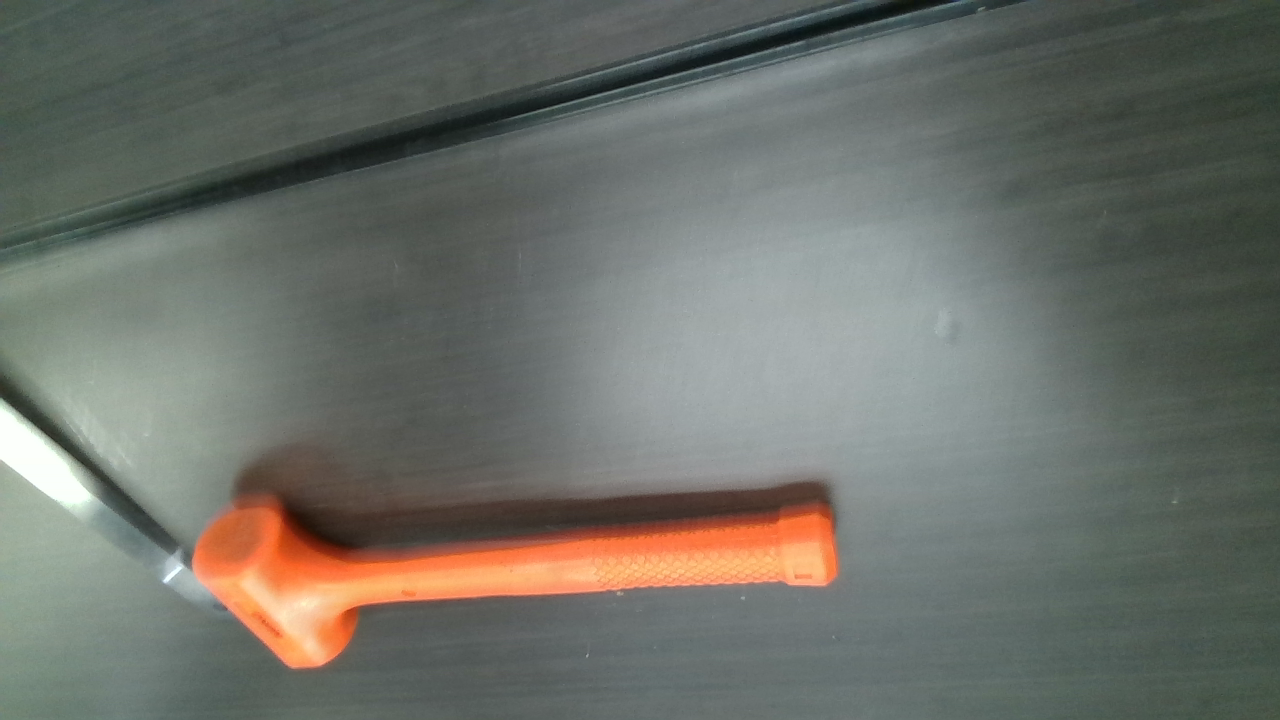Orange Hammer: (198, 488, 841, 666)
